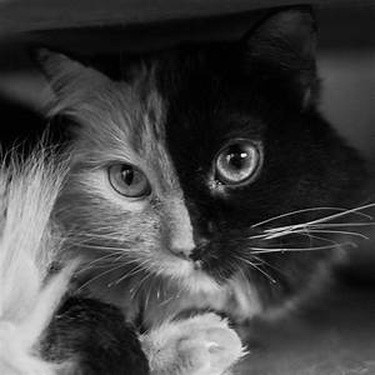cat: (29, 6, 369, 371)
